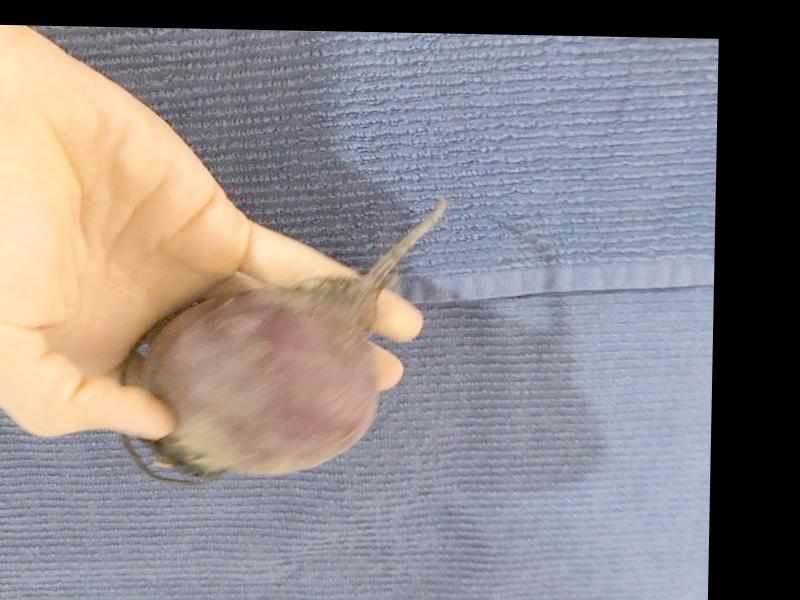Beet: (119, 190, 449, 491)
